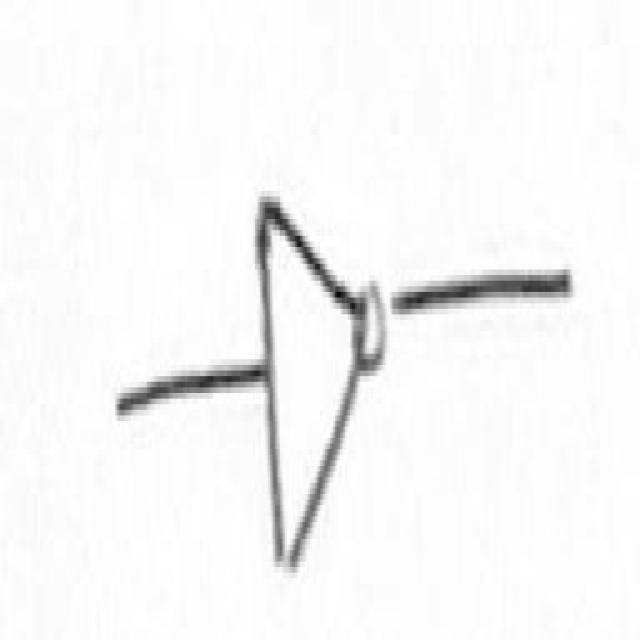NOT: (243, 151, 413, 614)
